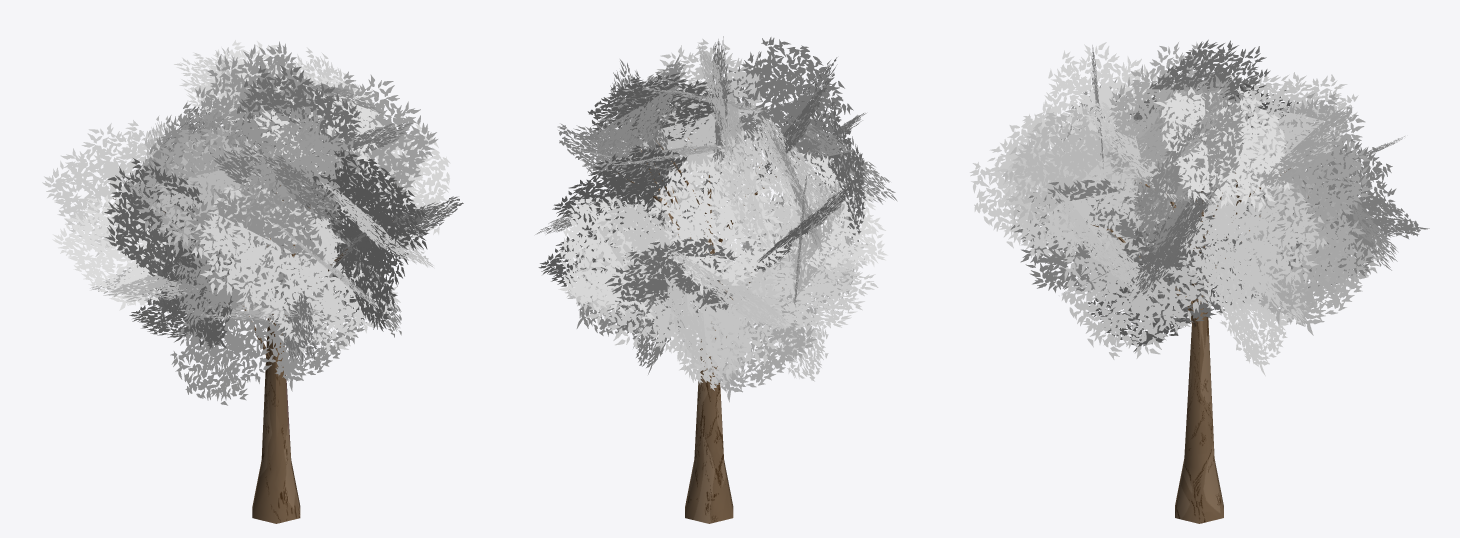
File: P_TREE1.fbx
The picture shows the model from 3 angles, left to right: view 1: azimuth 30°, elevation 25°; view 2: azimuth 150°, elevation 25°; view 3: azimuth 270°, elevation 25°; orthographic projection. The views are drawn at different scales.
Parts seen in each view (by area): view 1: Plane.002, Trunk01; view 2: Plane.002, Trunk01; view 3: Plane.002, Trunk01.
Part boxes in pixels (x1,y1,x2,y2): Plane.002: [42, 40, 463, 405]; Trunk01: [113, 150, 393, 523]; Plane.002: [535, 36, 897, 402]; Trunk01: [612, 138, 807, 523]; Plane.002: [969, 39, 1429, 376]; Trunk01: [1091, 168, 1308, 523].
Bounding box in the file's own units: 254 × 320 × 291.
